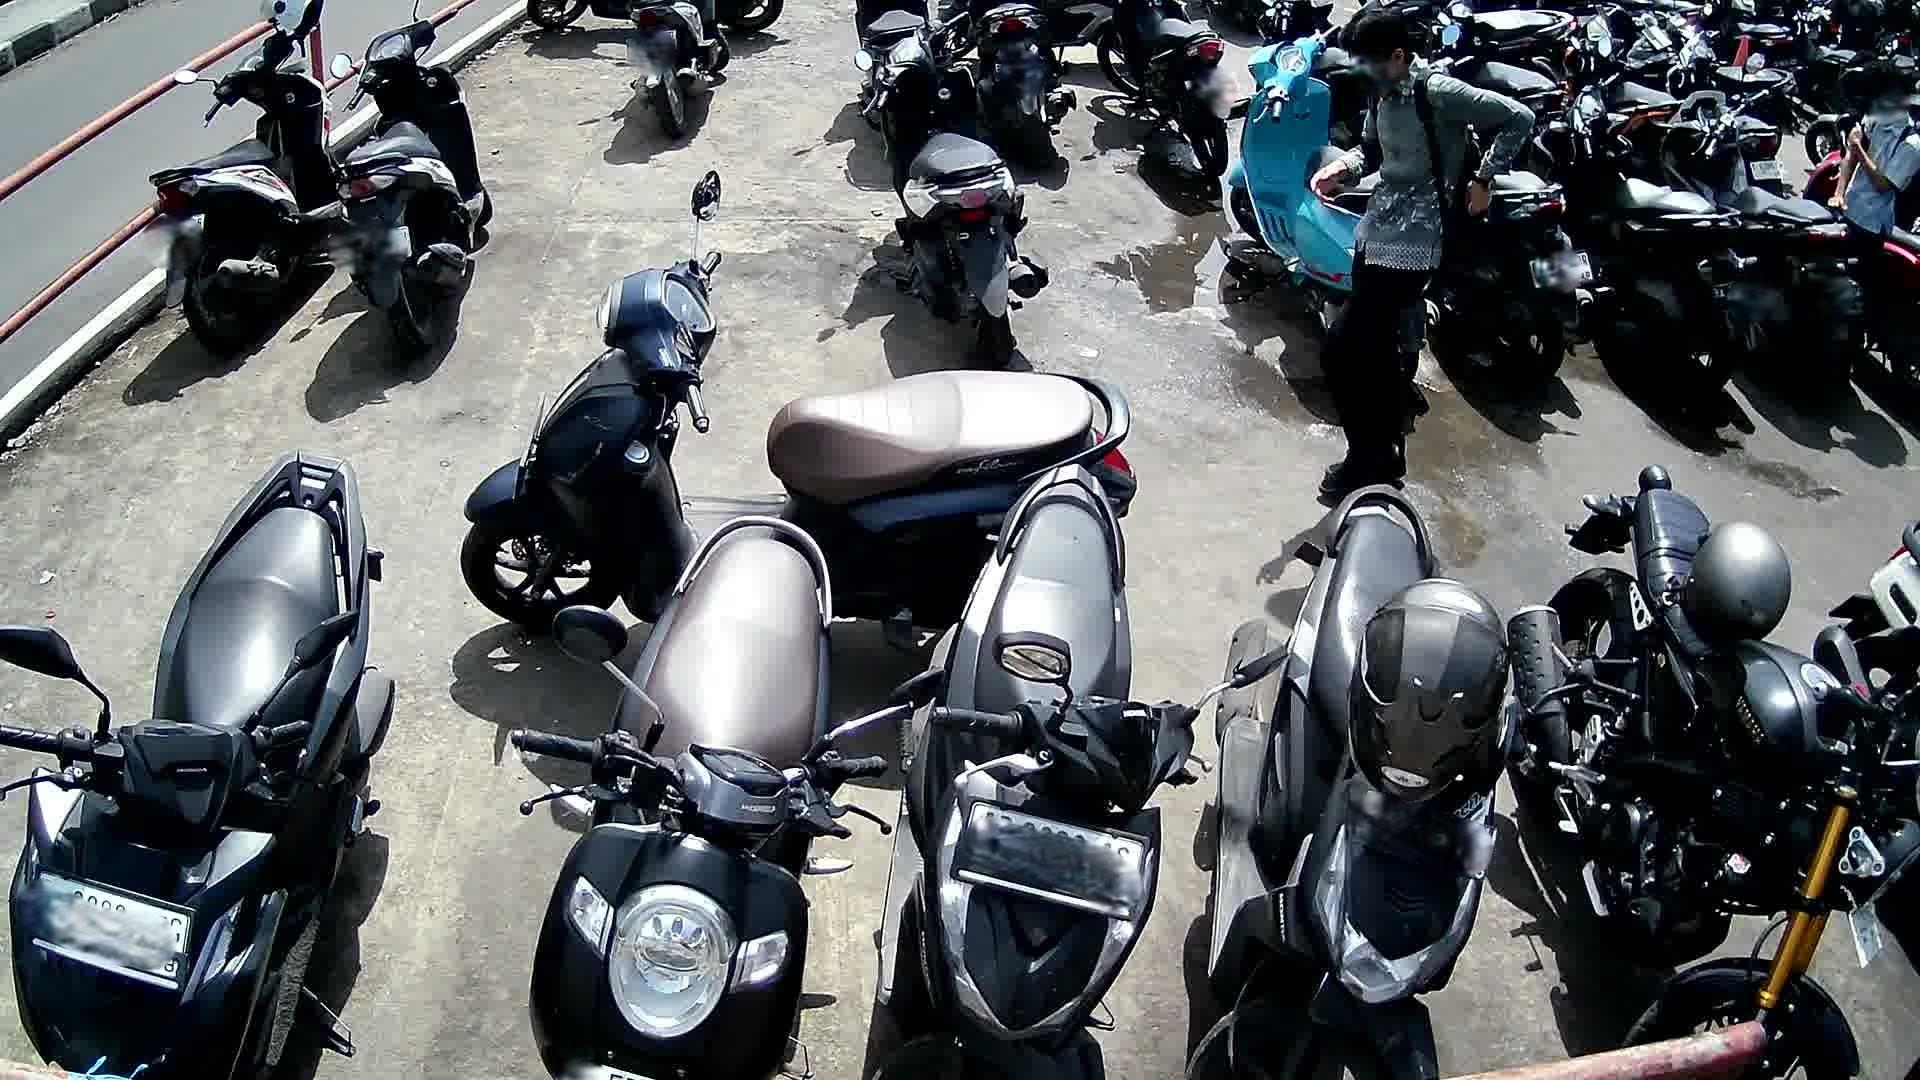motorcycle: (458, 169, 1142, 636), (0, 446, 401, 1079), (1510, 462, 1920, 1080), (881, 462, 1262, 1080), (510, 513, 922, 1080), (1179, 481, 1510, 1080), (1524, 40, 1762, 404), (1647, 53, 1871, 405), (852, 0, 1058, 367), (145, 8, 345, 364), (326, 0, 504, 368), (1221, 21, 1373, 315), (1453, 138, 1602, 394)
